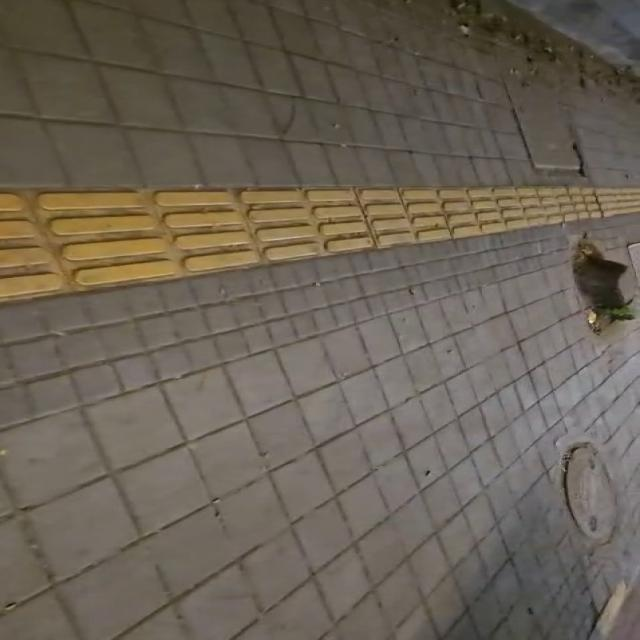obstacle: (495, 69, 596, 176)
vehicle: (564, 445, 617, 542)
